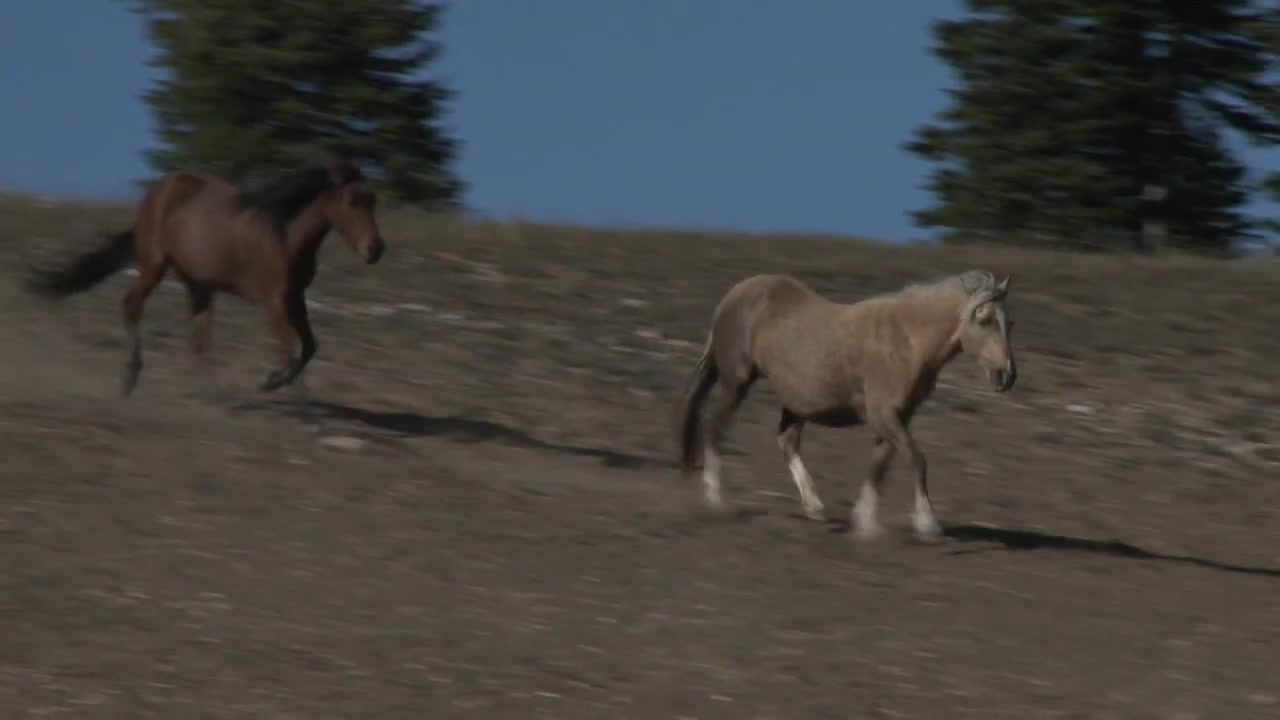horse: (674, 269, 1022, 544), (20, 159, 391, 407)
